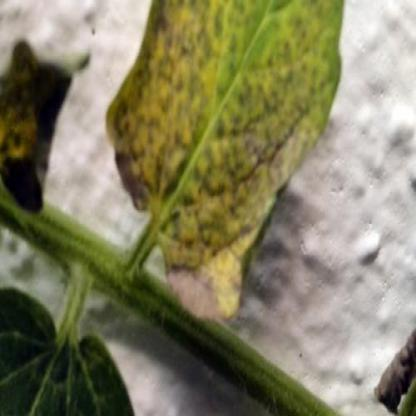tomato leaf bacterial spot: (107, 4, 350, 305)
